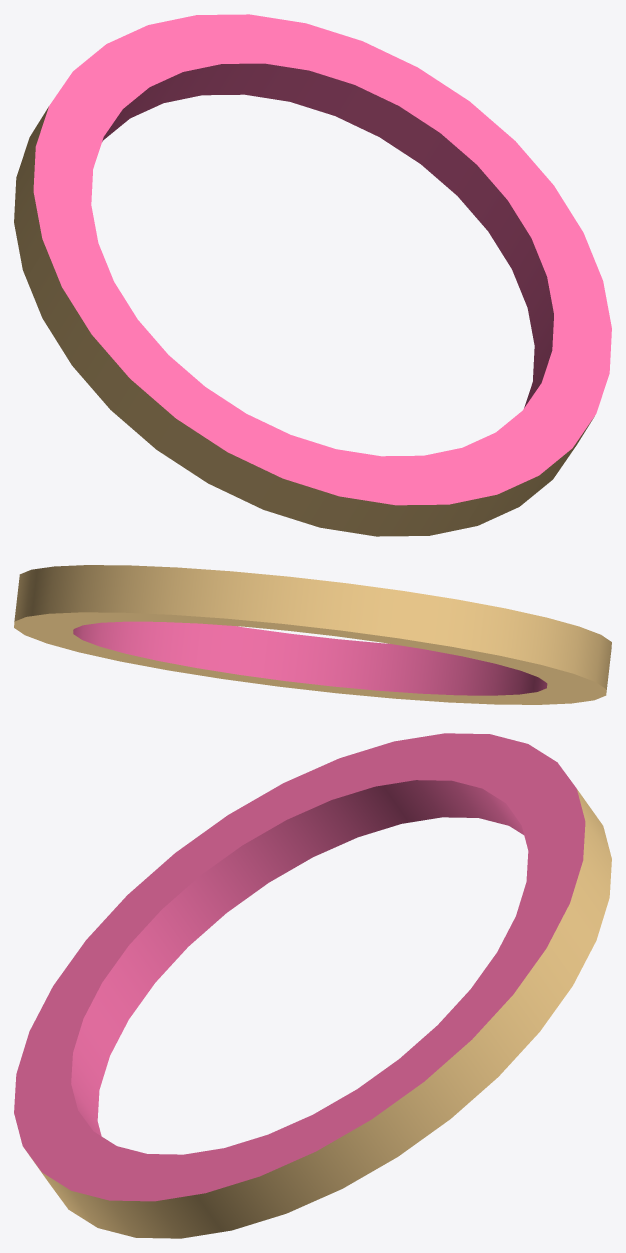
File: Ring_6.glb
3 renders of one model, top to bottom at view 1: azimuth 30°, elevation 25°; view 2: azimuth 150°, elevation 25°; view 3: azimuth 270°, elevation 25°, orthographic. The views are drawn at different scales.
Parts seen in each view (by area): view 1: Ring_6; view 2: Ring_6; view 3: Ring_6.
Part boxes in pixels (x1,y1,x2,y2): Ring_6: [14, 14, 611, 536]; Ring_6: [14, 565, 611, 704]; Ring_6: [14, 733, 611, 1238].
Size of the model in its own units: 2.5 by 1.48 by 2.26.
